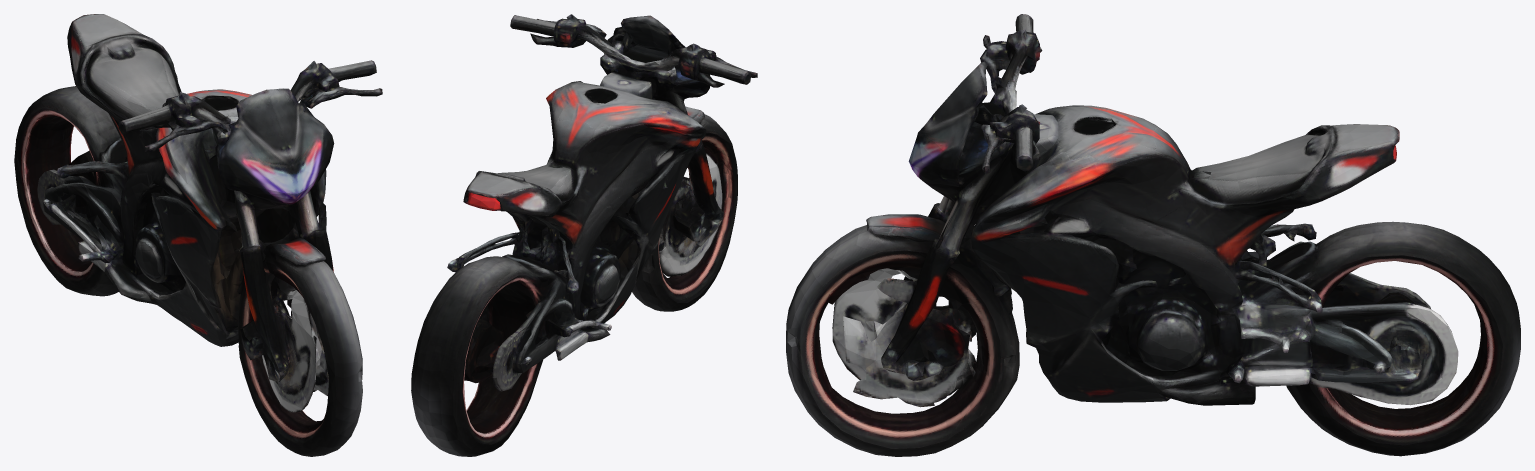
Rendered from high-tech_racing_bike.glb.
3 renders of one model, left to right at view 1: azimuth 30°, elevation 25°; view 2: azimuth 150°, elevation 25°; view 3: azimuth 270°, elevation 25°, orthographic. The views are drawn at different scales.
Visible parts, largest first — view 1: Model No-08_0; view 2: Model No-08_0; view 3: Model No-08_0.
Part boxes in pixels (x1=…): Model No-08_0: x1=14, y1=14, x2=382, y2=456; Model No-08_0: x1=411, y1=14, x2=757, y2=456; Model No-08_0: x1=786, y1=14, x2=1520, y2=456.
Size of the model in its own units: 1.26 by 1.6 by 2.75.
Materials: 1 (1 with a texture image).
